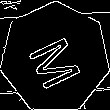M_NE: (23, 26, 87, 89)
